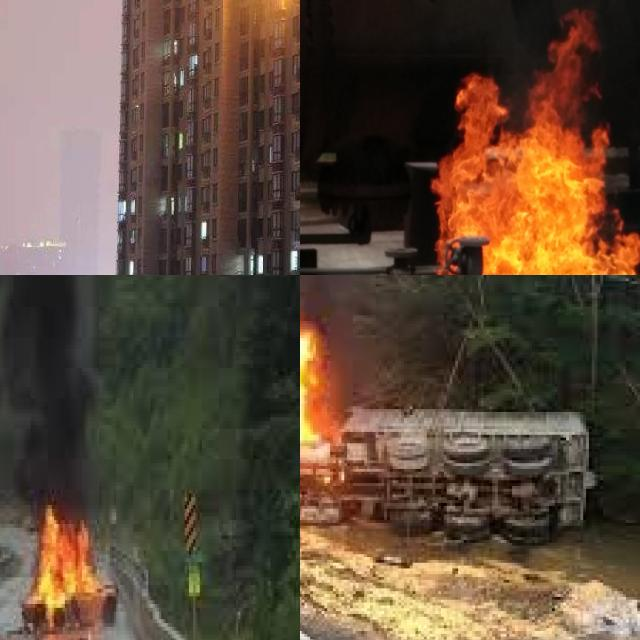fire: (435, 18, 640, 275), (15, 497, 124, 640), (300, 301, 367, 531)
smoke: (0, 275, 94, 520)
